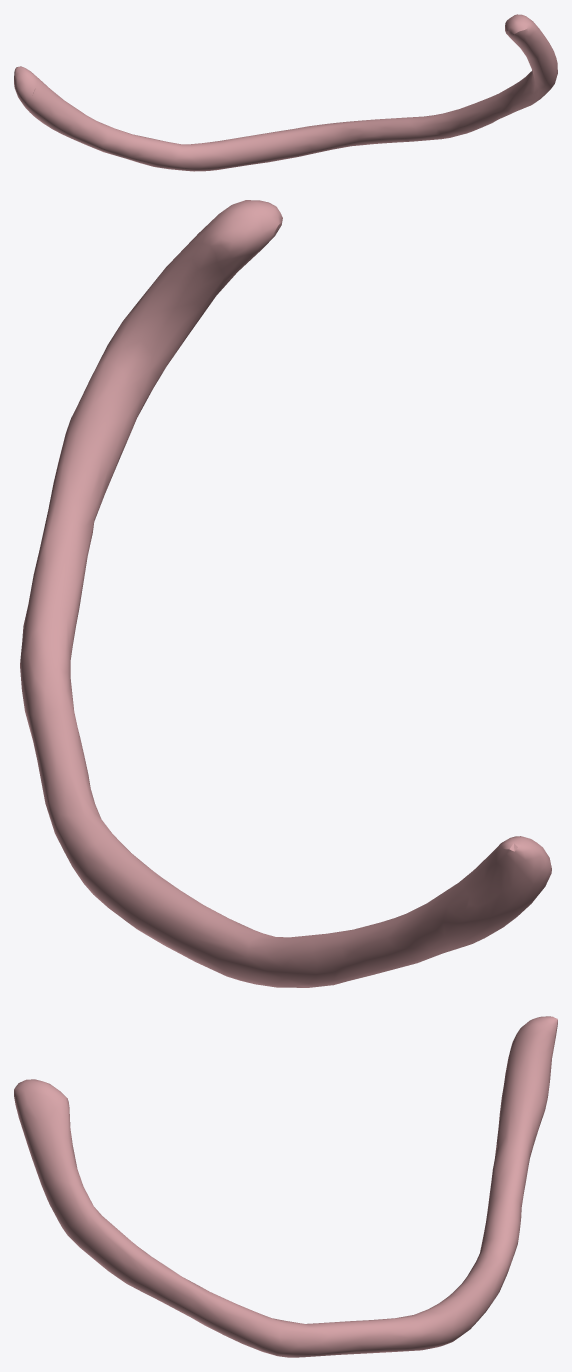
File: fma75138-l_mm3222.glb
3 views of the same model, one above another, from view 1: azimuth 30°, elevation 25°; view 2: azimuth 150°, elevation 25°; view 3: azimuth 270°, elevation 25° (orthographic). The views are drawn at different scales.
Parts seen in each view (by area): view 1: FMA75138-L_MM3222; view 2: FMA75138-L_MM3222; view 3: FMA75138-L_MM3222.
Part boxes in pixels (<box>): FMA75138-L_MM3222: <box>14,14,557,171</box>; FMA75138-L_MM3222: <box>20,200,551,987</box>; FMA75138-L_MM3222: <box>14,1016,557,1357</box>.
Size of the model in its own units: 0.0321 by 0.0187 by 0.0282.
